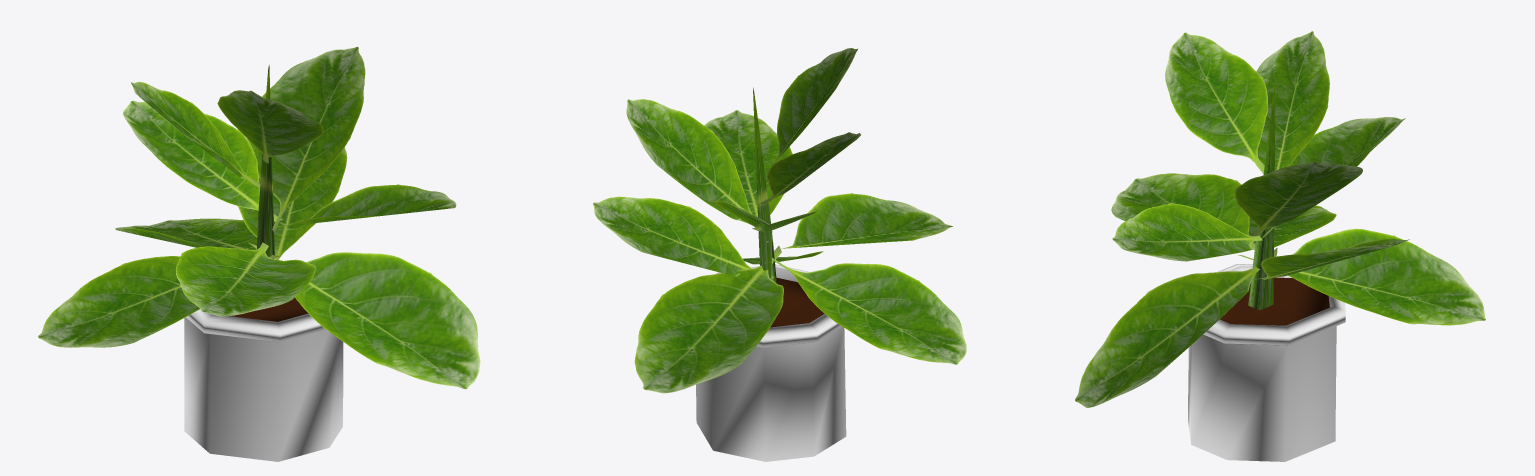
Rendered from Small Plant.fbx.
3 renders of one model, left to right at view 1: azimuth 30°, elevation 25°; view 2: azimuth 150°, elevation 25°; view 3: azimuth 270°, elevation 25°, orthographic. The views are drawn at different scales.
Parts seen in each view (by area): view 1: Plane.001; view 2: Plane.001; view 3: Plane.001.
Part boxes in pixels (x1=…): Plane.001: x1=38, y1=46, x2=480, y2=461; Plane.001: x1=593, y1=48, x2=966, y2=461; Plane.001: x1=1075, y1=31, x2=1485, y2=461.
Bounding box in the file's own units: 138 × 117 × 131.
3 materials, 1 textured.
